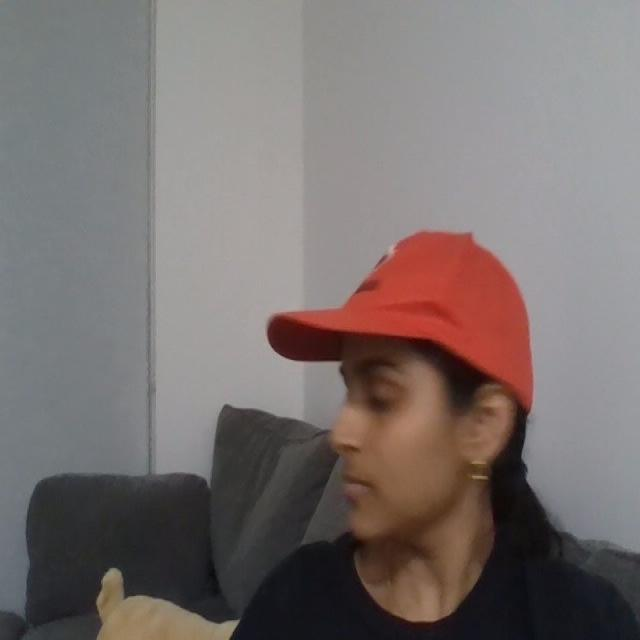Hat: (252, 208, 583, 381)
